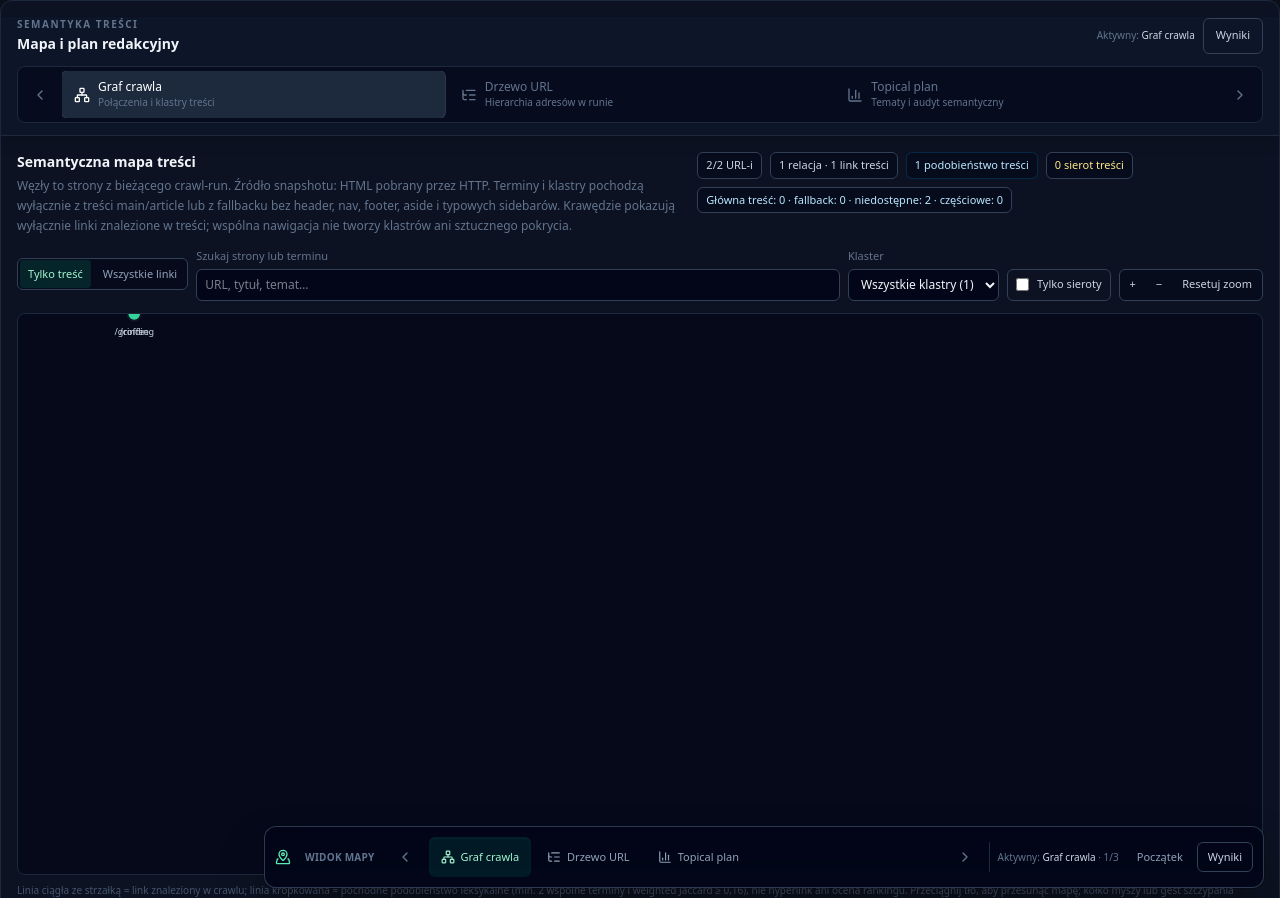
it: CrawlArchitectureGraph › keeps map navigation available at the bottom of long map content
This screenshot has width=1280, height=898.
Check: the element named "Sterowanie powiększeniem mapy" is shown, box [1118,268,1263,300]
Check: the button named "Powiększ mapę" is shown, box [1122,270,1144,298]
Click the button with aria-label "Przejdź do widoku Drzewo URL": [588, 857] box [535,837,642,877]
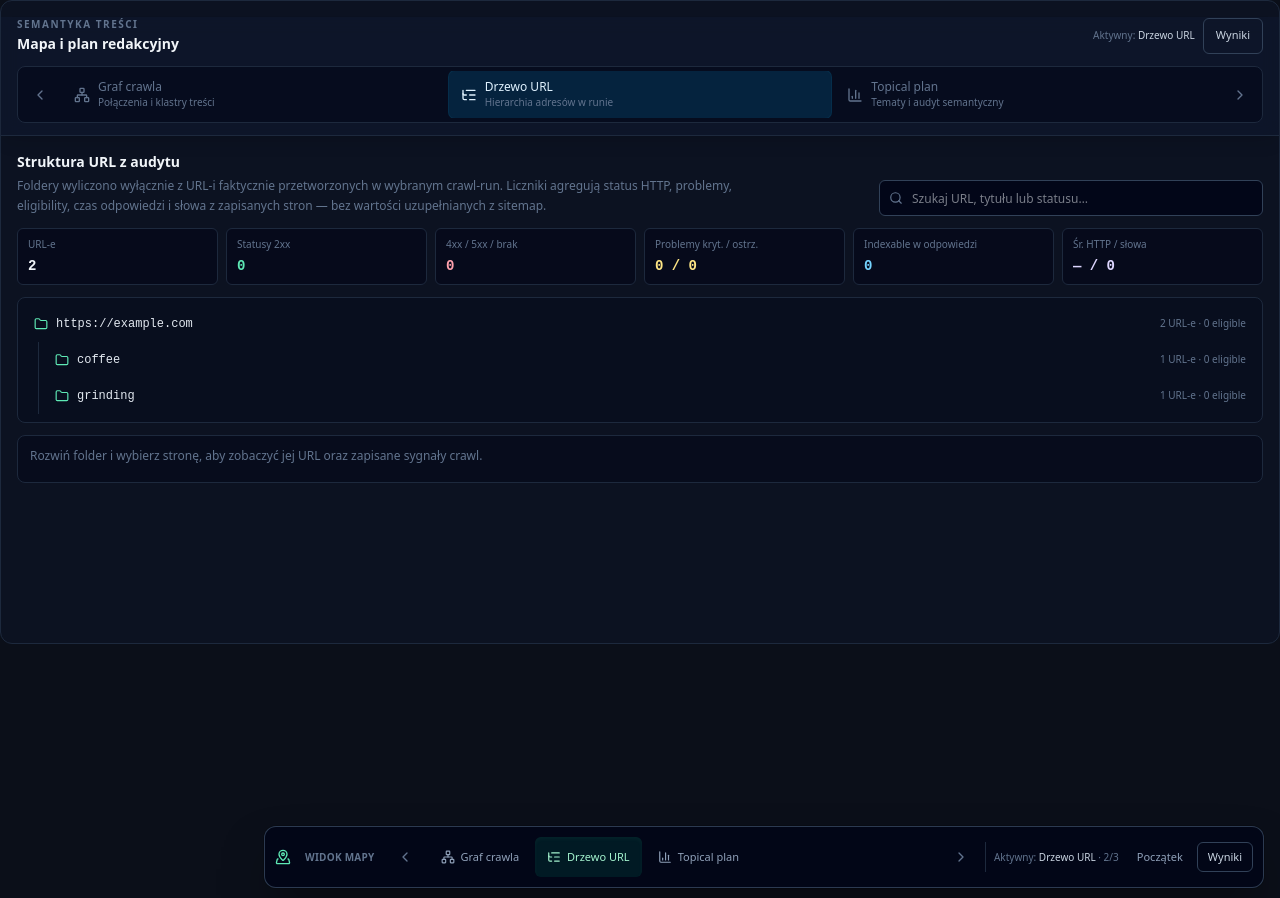
Check: the heading "Struktura URL z audytu" is shown, box [17,152,180,171]
Click the button with aria-label "Przejdź do widoku Topical plan": [698, 857] box [646,837,751,877]
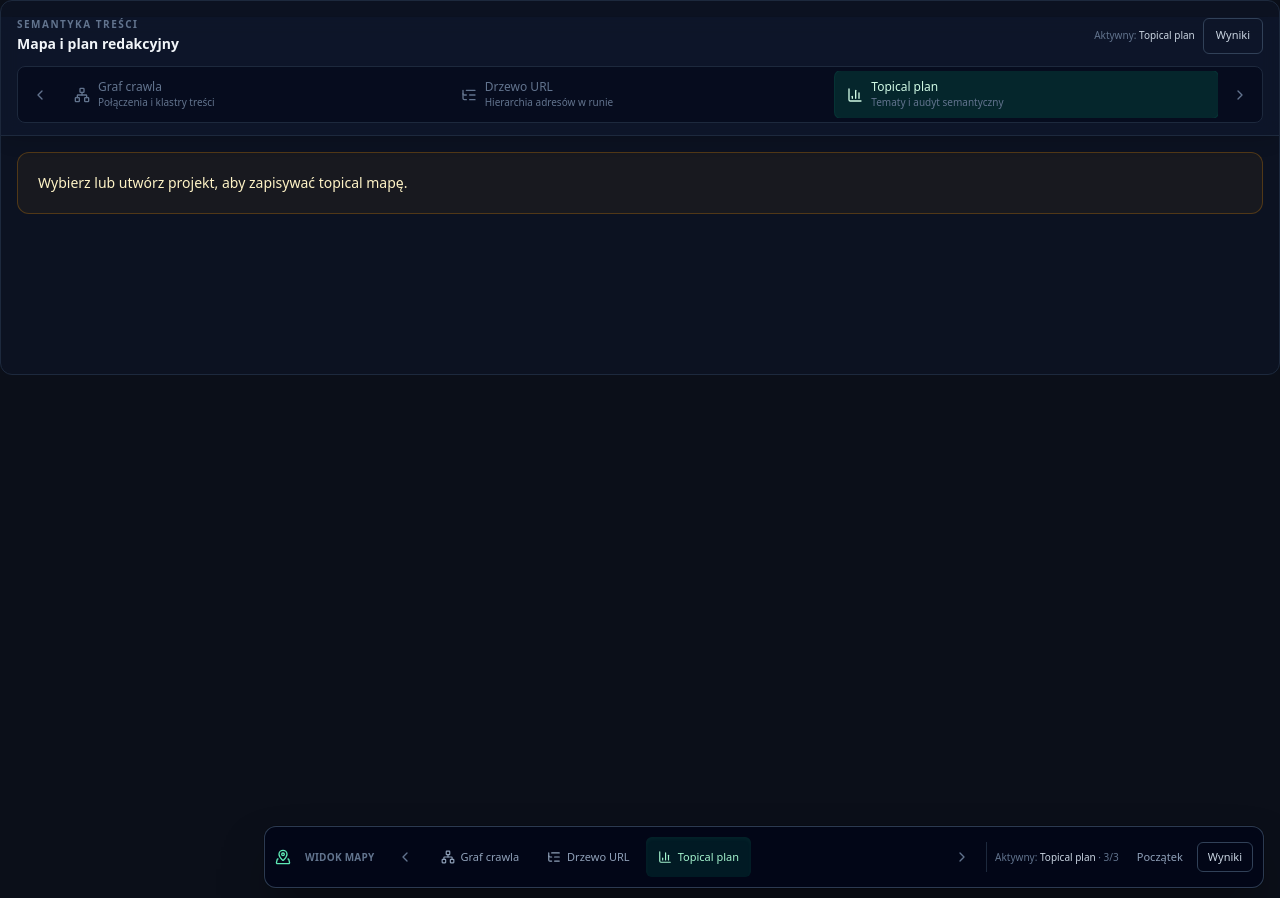
Check: the button with aria-label "Wróć na początek mapy" is shown, box [1127,843,1193,871]
Check: the text "Wybierz lub utwórz projekt, aby zapisywać topical mapę." is shown, box [17,152,1263,214]
